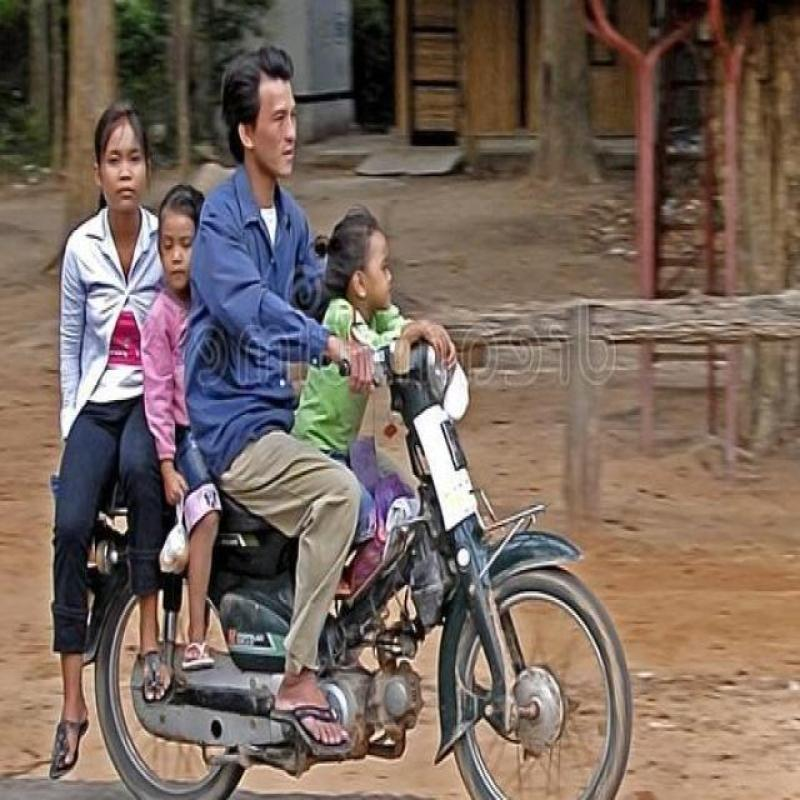nohelmet: (209, 29, 319, 187), (320, 184, 390, 324), (92, 88, 156, 222)
